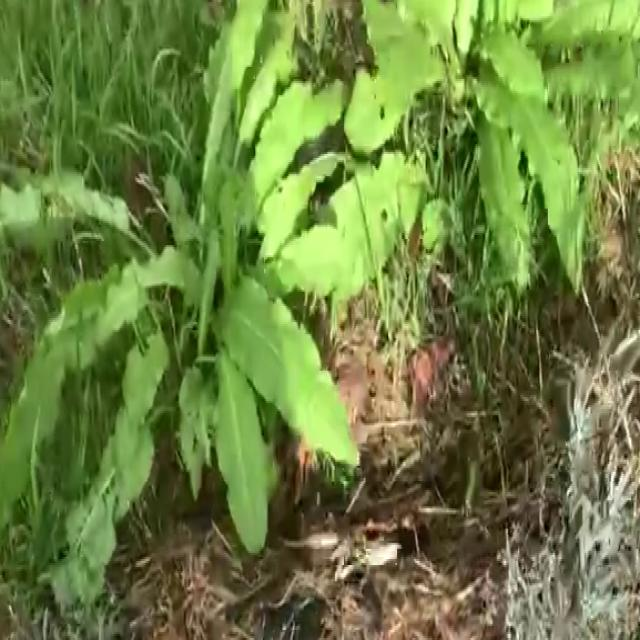organic waste: (1, 0, 364, 610), (339, 0, 640, 310)
